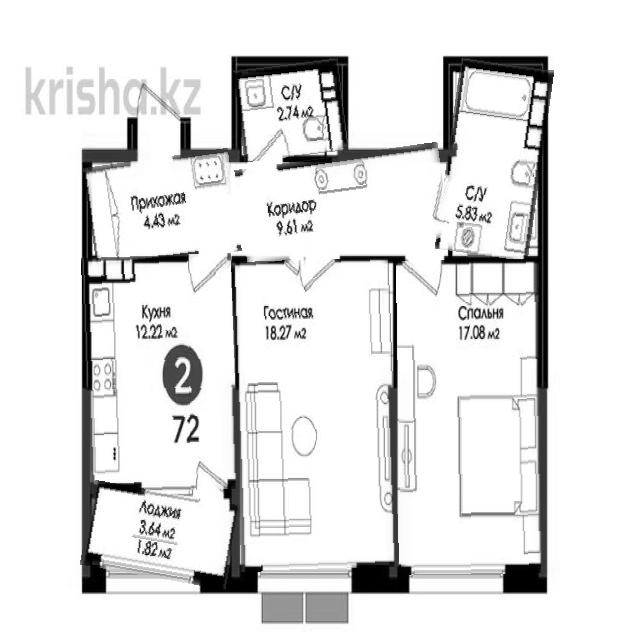balcony: (83, 486, 237, 584)
bathroom: (442, 60, 548, 259), (236, 60, 345, 159)
hallway: (237, 149, 448, 258), (87, 154, 239, 266)
kitchen: (83, 255, 237, 493)
living_room: (234, 259, 397, 571), (398, 258, 542, 574)
